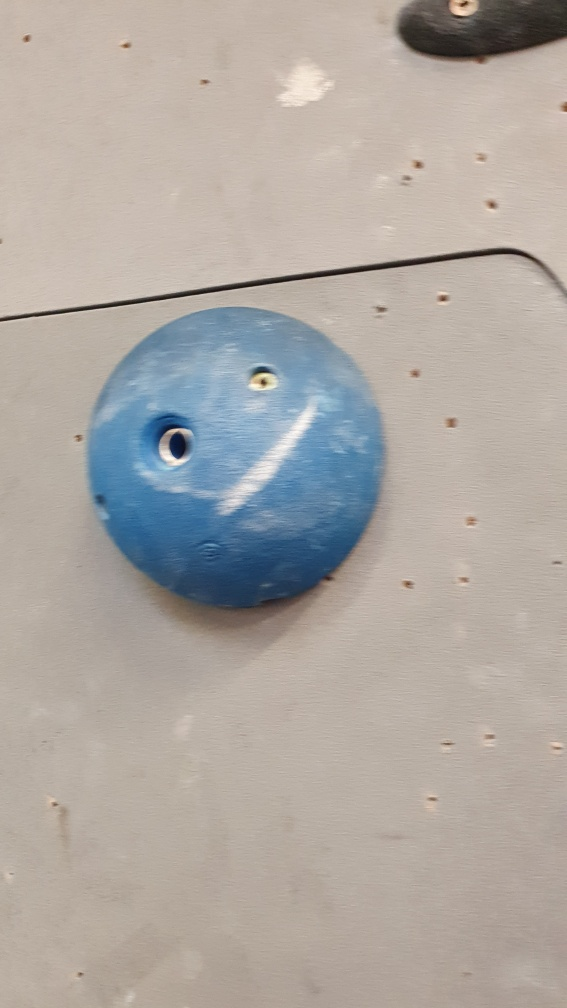Sloper: (83, 302, 388, 616)
